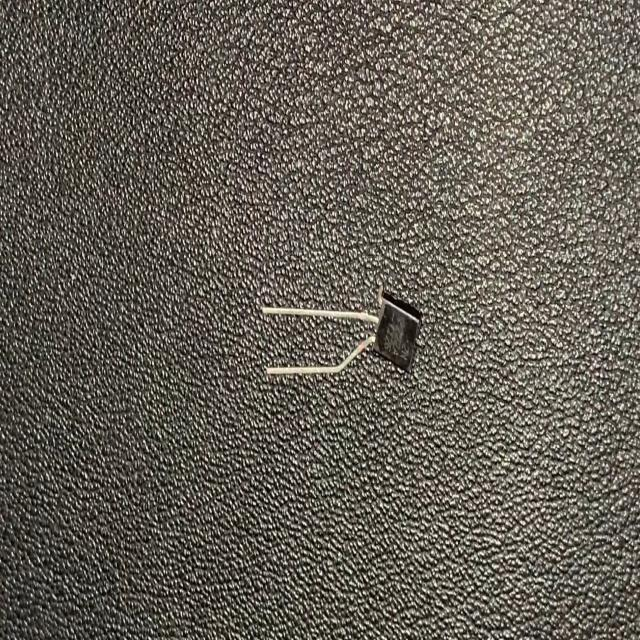missing-leg: (264, 285, 422, 380)
